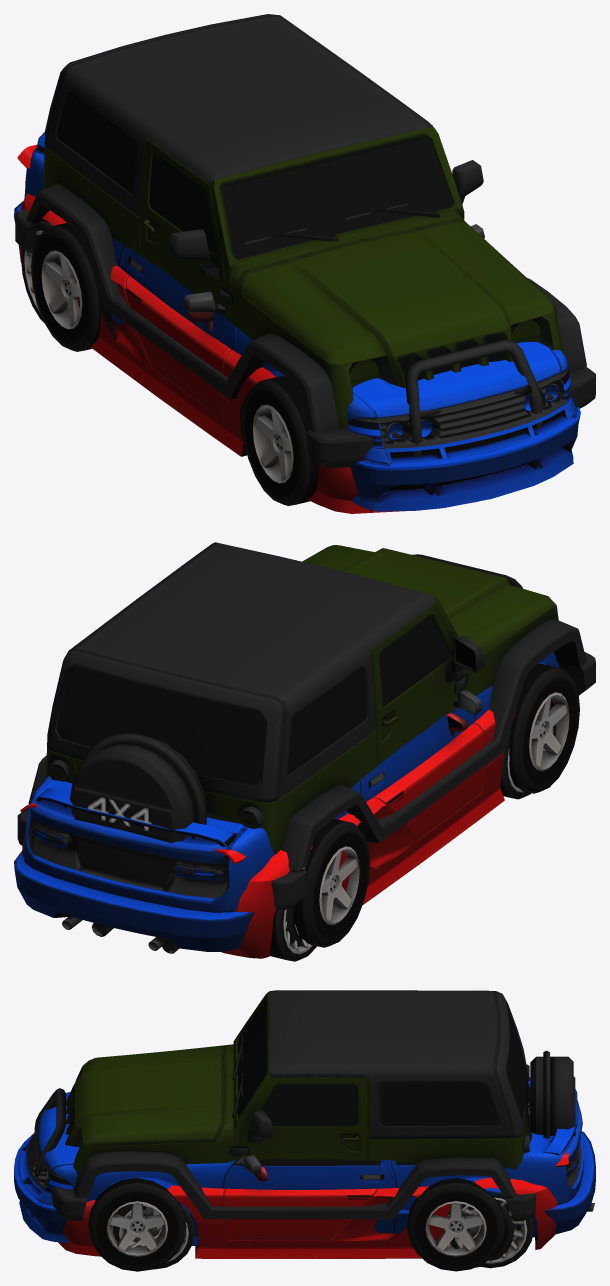
The model's file is car1-3.fbx.
The picture shows the model from 3 angles, top to bottom: view 1: azimuth 30°, elevation 25°; view 2: azimuth 150°, elevation 25°; view 3: azimuth 270°, elevation 25°; orthographic projection. The views are drawn at different scales.
Parts seen in each view (by area): view 1: car3, car2, car1, pasted__Wheel_G, pasted__Wheel_G001, pasted__Wheel_H003; view 2: car3, car2, car1, pasted__Wheel_G, pasted__Wheel_G001, pasted__Wheel_H003, pasted__Wheel_H; view 3: car3, car2, car1, pasted__Wheel_G, pasted__Wheel_G001, pasted__Wheel_H003, pasted__Wheel_H, pasted__Wheel_F001.
Boxes of the visible parts, box(x1,y1,x2,y2) form: car3: box(15, 14, 595, 468); car2: box(14, 132, 580, 511); car1: box(17, 144, 478, 513); pasted__Wheel_G: box(242, 376, 319, 505); pasted__Wheel_G001: box(31, 223, 112, 351); pasted__Wheel_H003: box(21, 220, 69, 322); car3: box(17, 542, 595, 909); car2: box(14, 652, 558, 951); car1: box(20, 699, 554, 958); pasted__Wheel_G: box(509, 663, 579, 793); pasted__Wheel_G001: box(294, 818, 370, 947); pasted__Wheel_H003: box(269, 867, 333, 961); pasted__Wheel_H: box(500, 704, 556, 799); car3: box(34, 990, 575, 1221); car2: box(14, 1077, 595, 1245); car1: box(58, 1151, 568, 1258); pasted__Wheel_G: box(88, 1178, 186, 1271); pasted__Wheel_G001: box(407, 1178, 505, 1271); pasted__Wheel_H003: box(450, 1192, 533, 1268); pasted__Wheel_H: box(113, 1204, 194, 1269); pasted__Wheel_F001: box(444, 1200, 514, 1267).
Bounding box in the file's own units: 221 × 177 × 477.
